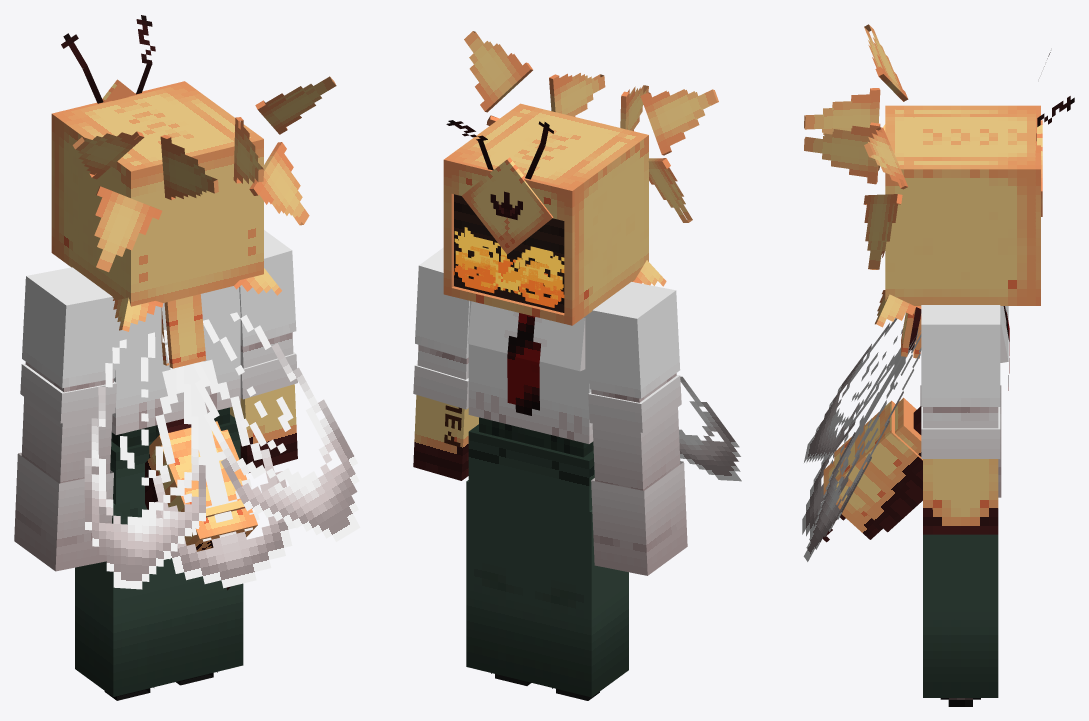
Rendered from bott.gltf.
3 views of the same model, side by side, from view 1: azimuth 30°, elevation 25°; view 2: azimuth 150°, elevation 25°; view 3: azimuth 270°, elevation 25° (orthographic). The views are drawn at different scales.
Visible parts, largest first — view 1: cube (×20), head, left_leg, left_arm (×2), body (×3), right_leg, right_arm; view 2: cube (×22), head, left_leg, body (×3), left_arm (×2), right_leg, right_arm; view 3: cube (×18), head, right_leg, right_arm.
Part boxes in pixels (<box>): cube (×20): <box>20,76,360,589</box>; head: <box>54,83,263,306</box>; left_leg: <box>75,498,179,696</box>; left_arm (×2): <box>14,362,113,571</box>; body (×3): <box>110,286,240,504</box>; right_leg: <box>176,572,243,681</box>; right_arm: <box>230,332,297,472</box>; cube (×22): <box>413,31,741,481</box>; head: <box>446,103,648,323</box>; left_leg: <box>527,497,628,697</box>; body (×3): <box>468,301,594,511</box>; left_arm (×2): <box>591,373,687,575</box>; right_leg: <box>466,480,530,681</box>; right_arm: <box>413,345,478,480</box>; cube (×18): <box>802,24,1040,561</box>; head: <box>885,105,1035,305</box>; right_leg: <box>923,534,998,697</box>; right_arm: <box>923,407,998,534</box>.
Size of the model in its own units: 1.12 by 2.26 by 0.929.
2 materials, 2 textured.
